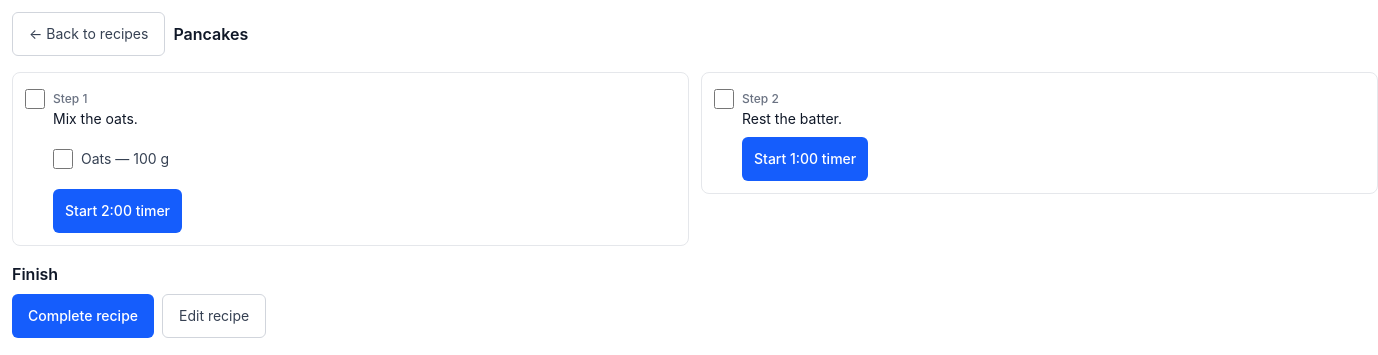
RecipeCook › checking a step sinks it to the bottom; unchecking restores position
Later steps or results of the test are not shown.
Click the checkbox named "Step 1 done" at x=35, y=99, box [25,89,45,109]
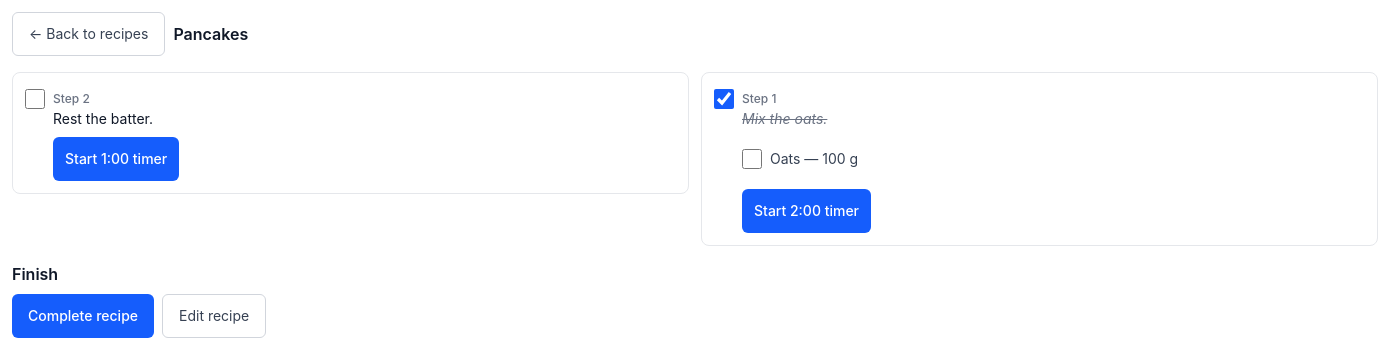
Check: the text "Mix the oats." has class "line-through", box [742,110,827,127]
